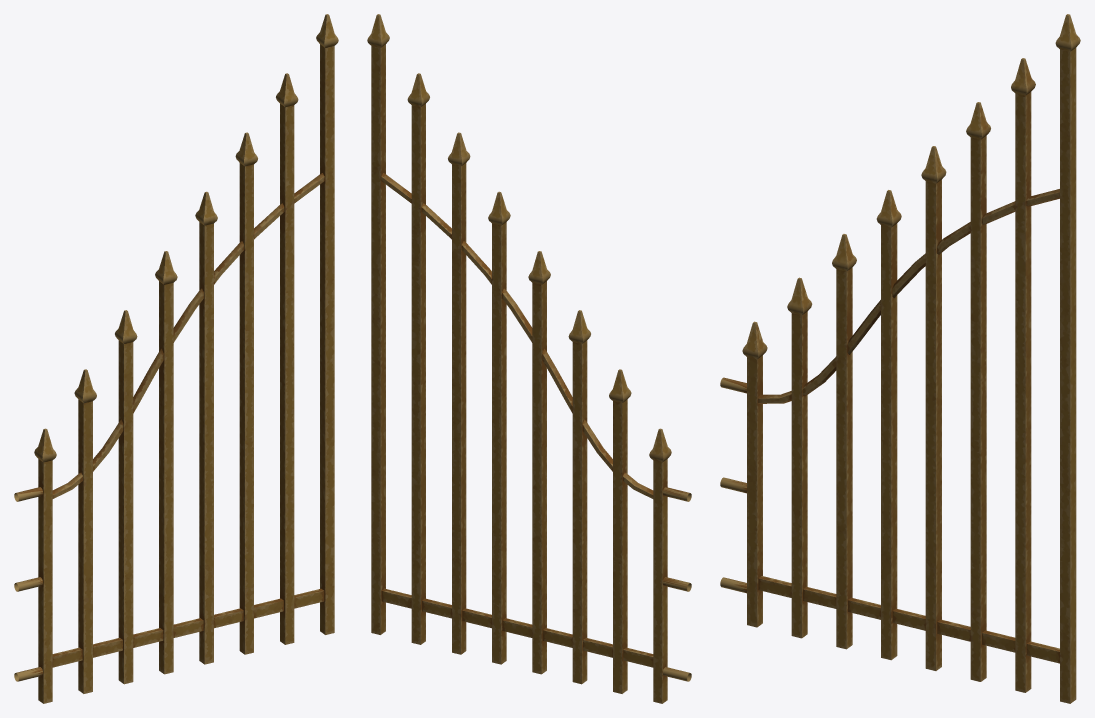
File: gate_low_textured.fbx
The picture shows the model from 3 angles, left to right: view 1: azimuth 30°, elevation 25°; view 2: azimuth 150°, elevation 25°; view 3: azimuth 330°, elevation 25°; orthographic projection. The views are drawn at different scales.
Parts seen in each view (by area): view 1: gate_low; view 2: gate_low; view 3: gate_low.
Boxes of the visible parts, x1=… form: gate_low: x1=14, y1=14, x2=338, y2=703; gate_low: x1=367, y1=14, x2=691, y2=703; gate_low: x1=720, y1=14, x2=1080, y2=703.
Bounding box in the file's own units: 238 × 442 × 10.77.
